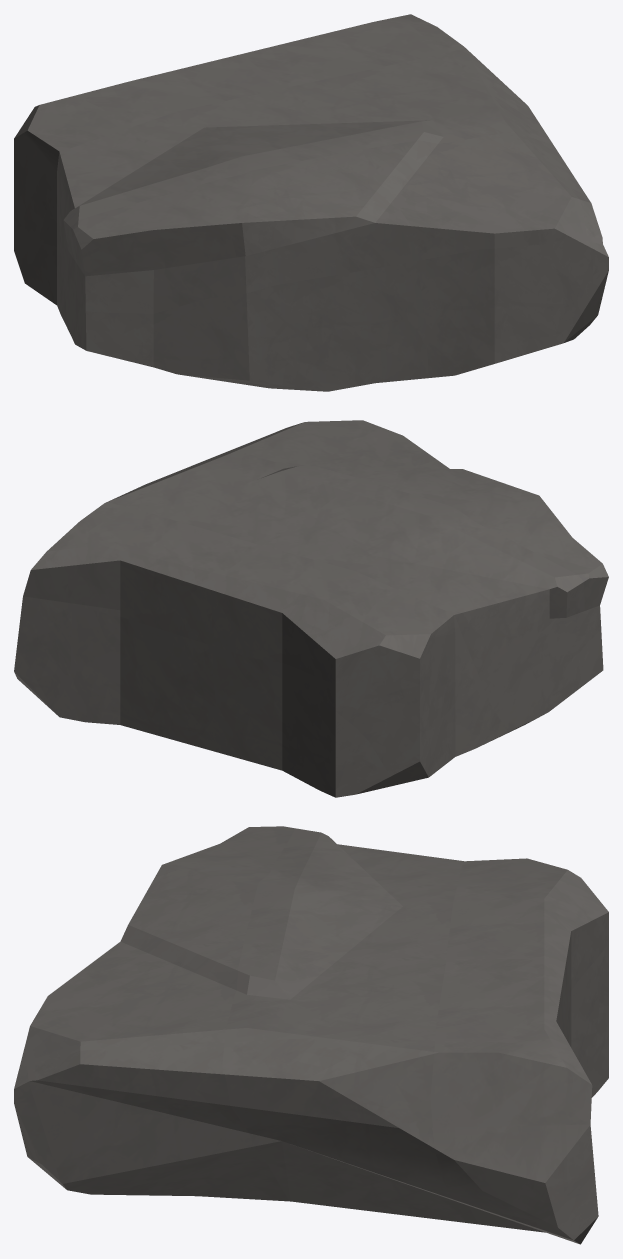
Rendered from Boulder_6_Colider.fbx.
3 renders of one model, top to bottom at view 1: azimuth 30°, elevation 25°; view 2: azimuth 150°, elevation 25°; view 3: azimuth 270°, elevation 25°, orthographic. The views are drawn at different scales.
Parts seen in each view (by area): view 1: Boulder_6_Colider; view 2: Boulder_6_Colider; view 3: Boulder_6_Colider.
Boxes of the visible parts, x1=… form: Boulder_6_Colider: x1=14, y1=14, x2=608, y2=391; Boulder_6_Colider: x1=14, y1=420, x2=608, y2=797; Boulder_6_Colider: x1=14, y1=826, x2=608, y2=1244.
Bounding box in the file's own units: 1317 × 480 × 1214.
